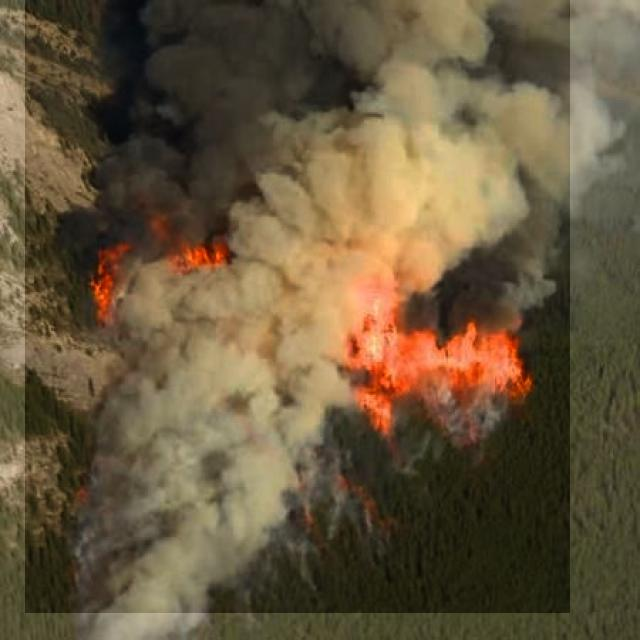Fire: (339, 301, 524, 402), (86, 211, 245, 301)
Smoke: (25, 0, 570, 613)
